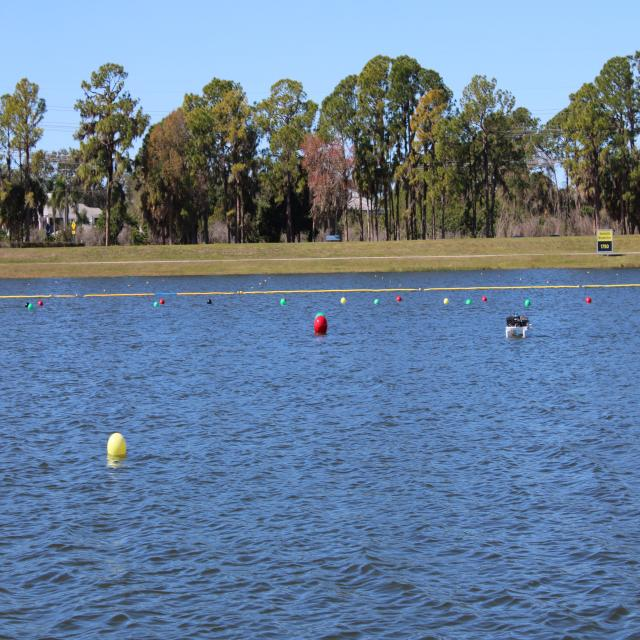red-buoy: (314, 314, 328, 335), (587, 295, 593, 304), (483, 295, 489, 302)
yellow-buoy: (110, 432, 129, 458)
